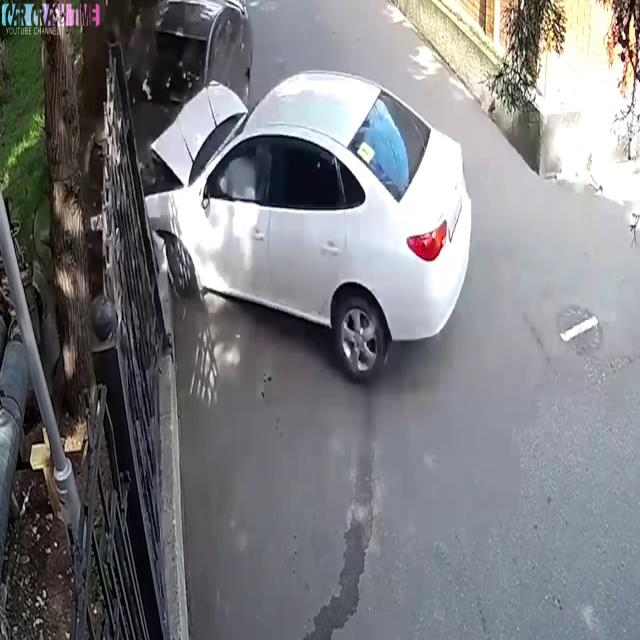Accident: (124, 9, 384, 390)
